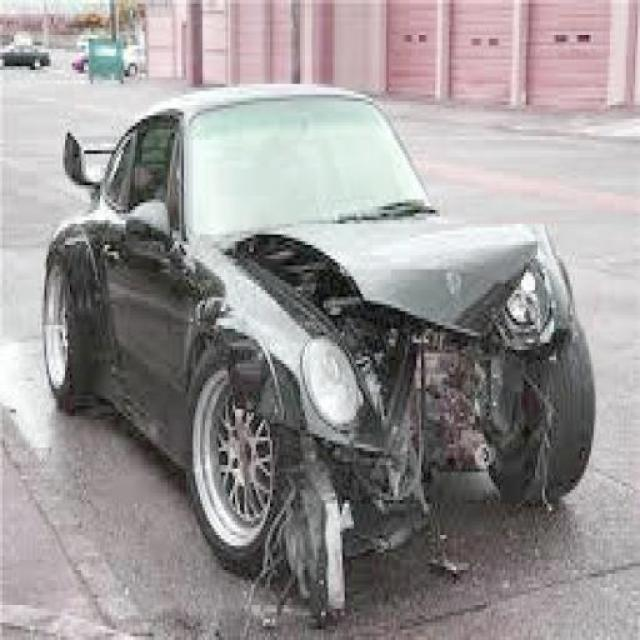car damage: (220, 224, 580, 613)
